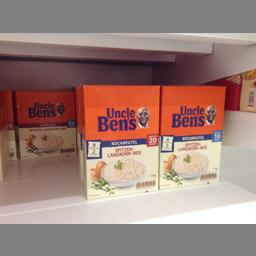rice: (80, 84, 161, 198), (160, 84, 225, 188), (15, 88, 74, 158)
